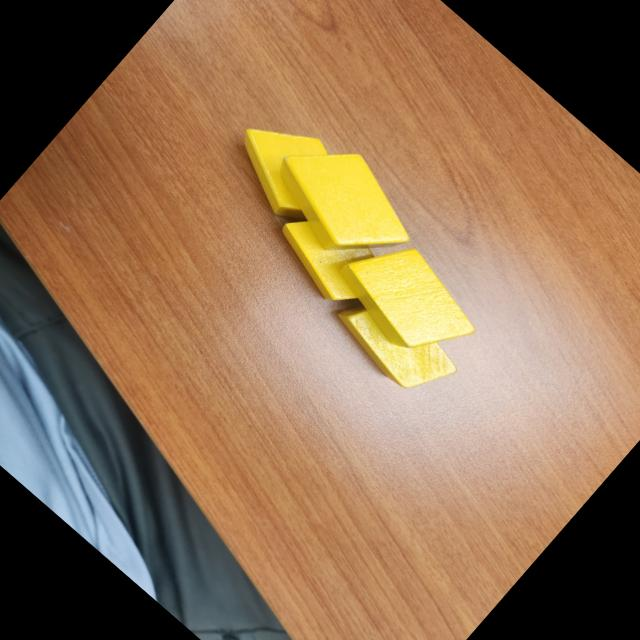yellow: (259, 123, 432, 290), (326, 220, 492, 382), (324, 274, 468, 411), (216, 99, 352, 233), (264, 192, 396, 320)
